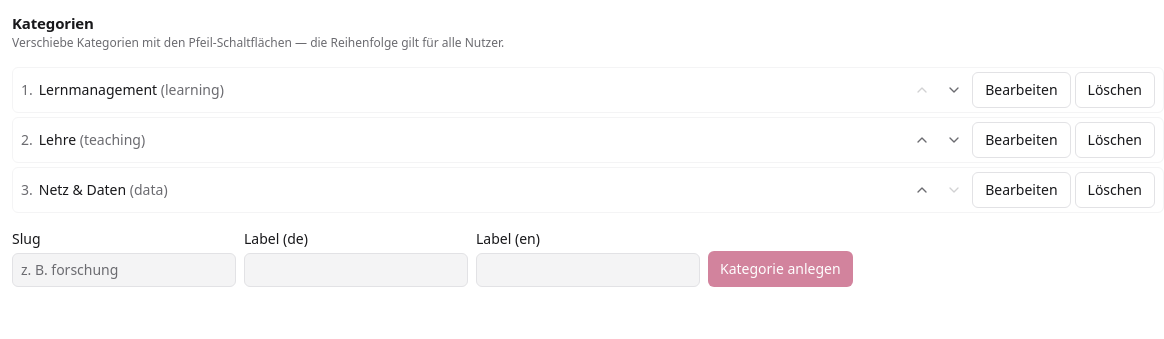
CategoriesAdmin — edit, delete and reorder (issue #130) › reports a failed reorder instead of leaving the list silently wrong
Click the button named "Nach unten": (954, 90) [940,76,968,104]
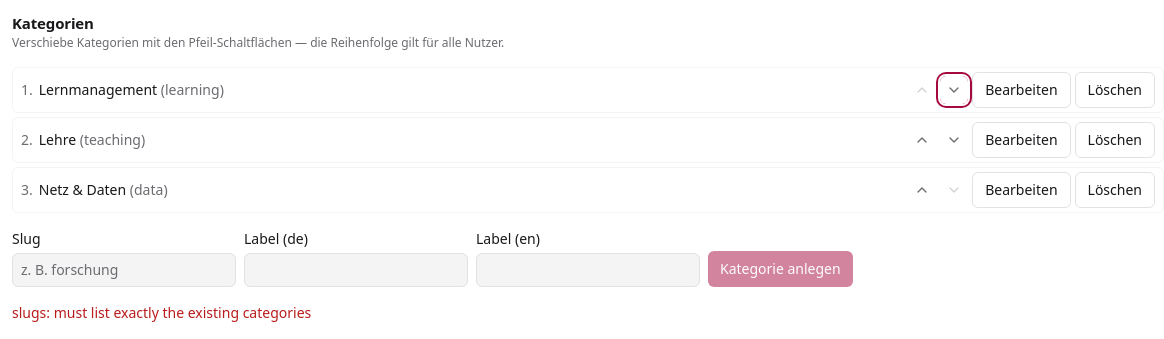
Expected: the message shows "must list exactly the existing categories", [12,302,311,322]
